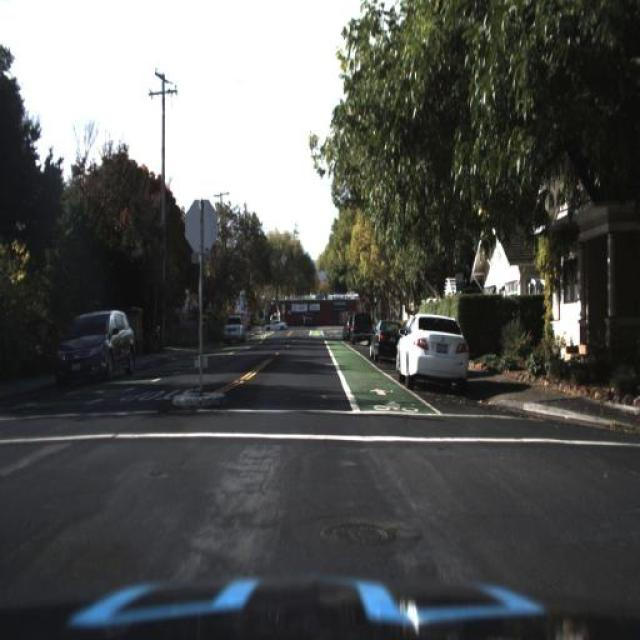car: (53, 304, 139, 382), (397, 311, 468, 388), (370, 314, 408, 365), (220, 313, 250, 347), (350, 303, 376, 341), (258, 314, 290, 334)
